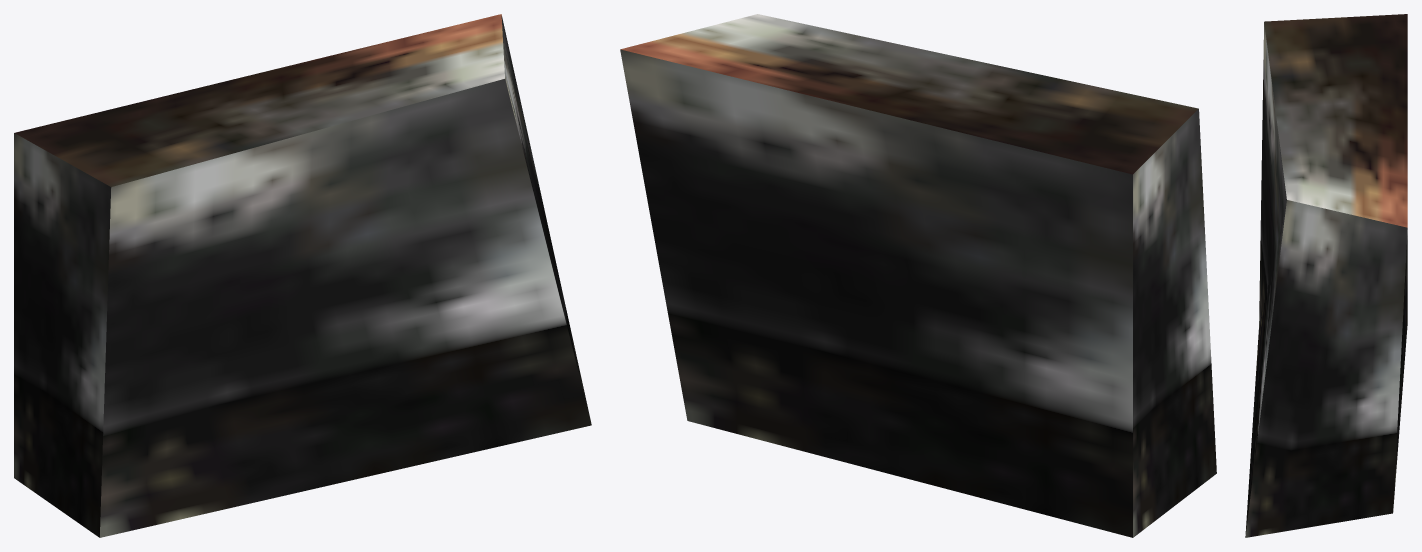
File: USA - Base Infrastructure - Power Plant - Damage State 17 - ABPWRPLANT_d17.glb
The picture shows the model from 3 angles, left to right: view 1: azimuth 30°, elevation 25°; view 2: azimuth 150°, elevation 25°; view 3: azimuth 270°, elevation 25°; orthographic projection. The views are drawn at different scales.
Visible parts, largest first — view 1: ABPWRPLANT_D17; view 2: ABPWRPLANT_D17; view 3: ABPWRPLANT_D17.
Boxes of the visible parts, x1,y1,x2,y2 form: ABPWRPLANT_D17: [14, 14, 591, 537]; ABPWRPLANT_D17: [620, 14, 1216, 537]; ABPWRPLANT_D17: [1245, 14, 1407, 537].
Size of the model in its own units: 6.9 by 4.67 by 2.21.
Materials: 1 (1 with a texture image).
